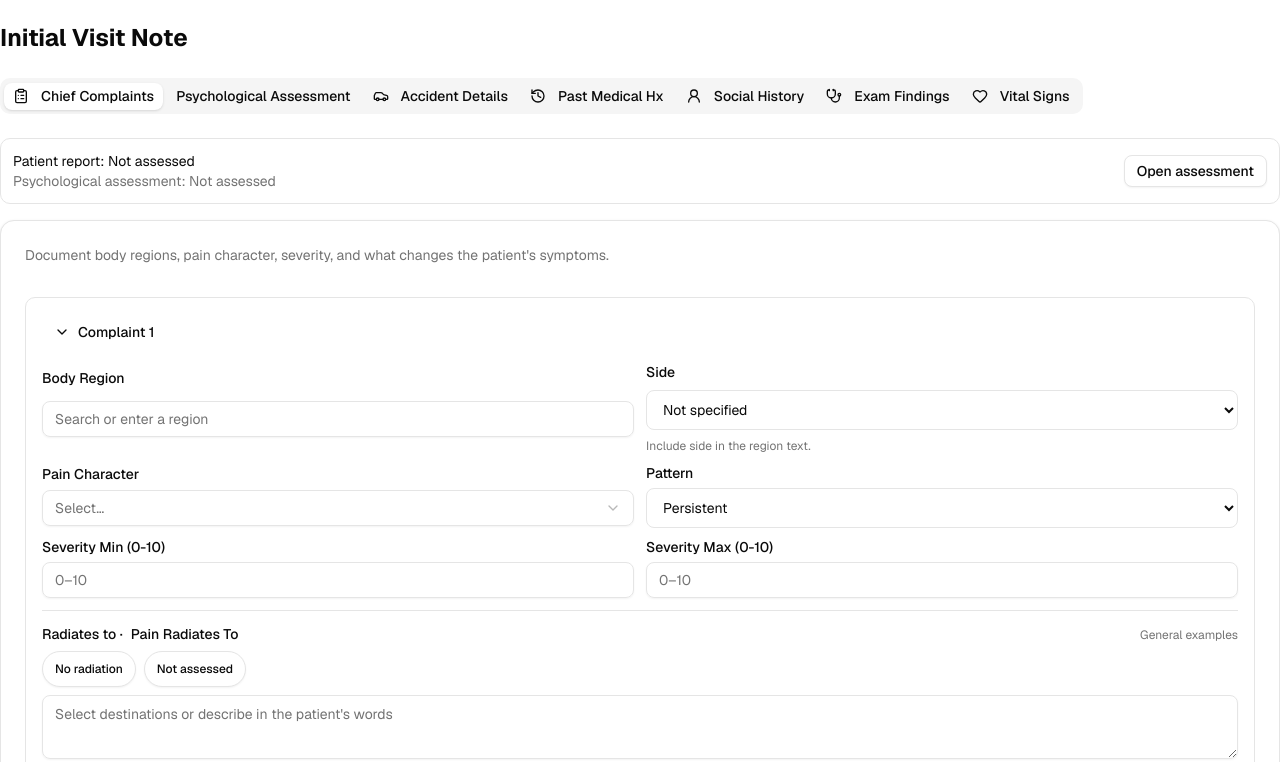
Test: psychological intake in the visit editor › stops generation and returns to the assessment when a required field is missing
Click the button "Open assessment": (1195, 171) top-left (1124, 155), bottom-right (1267, 187)
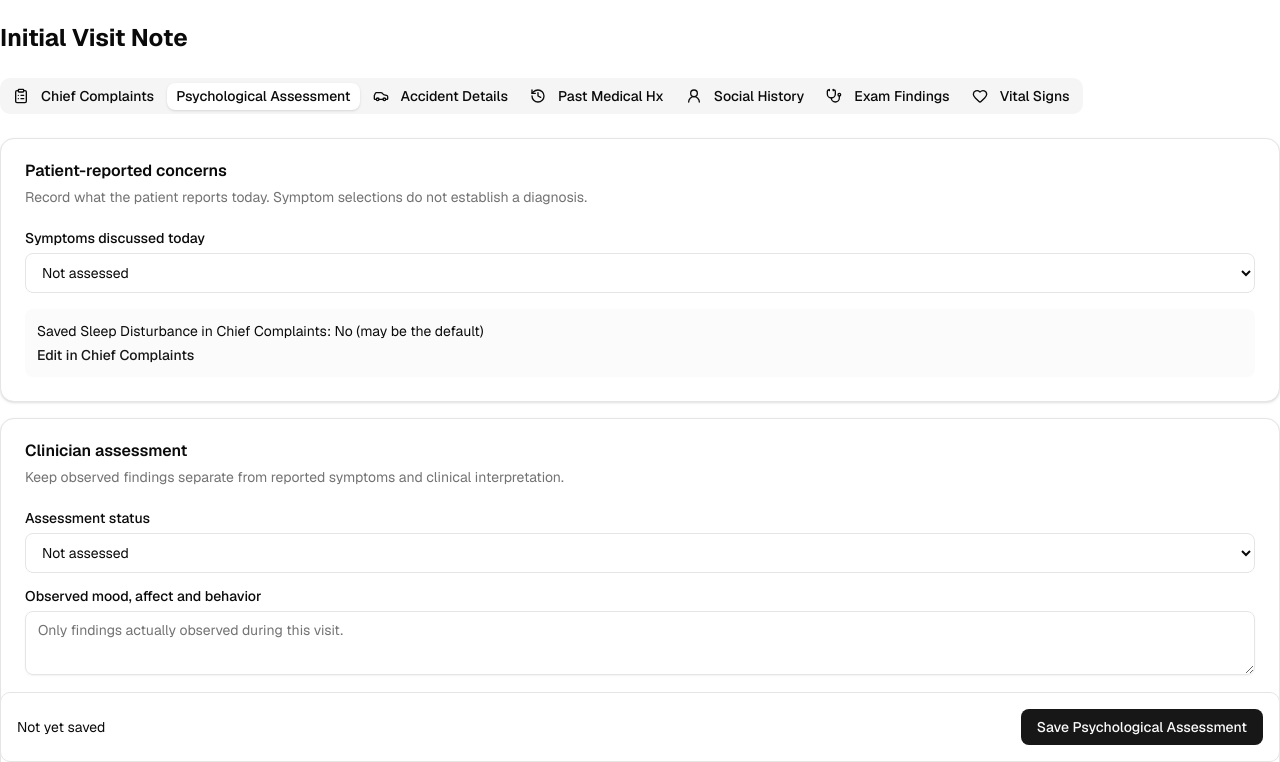
Select "Symptoms reported" in the dropdown labelled "Symptoms discussed today": (640, 273) top-left (25, 253), bottom-right (1255, 293)
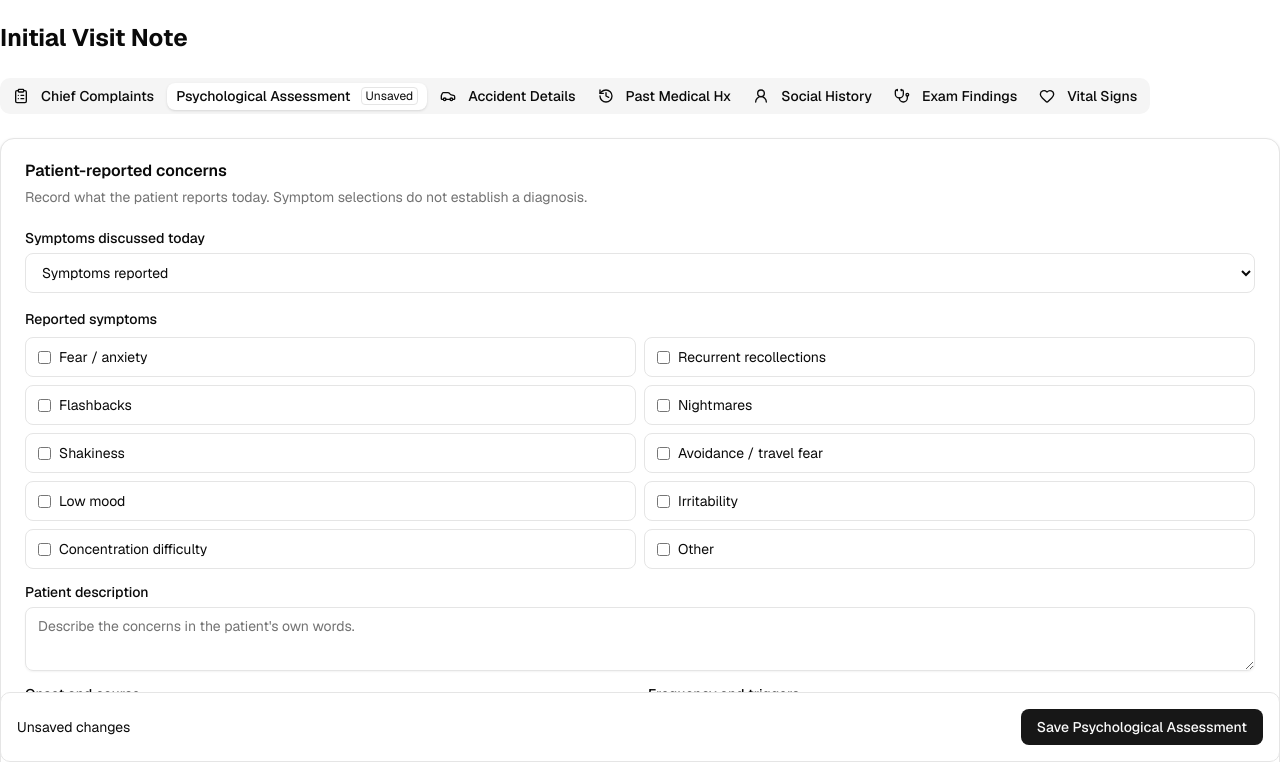
Click the tab "Chief Complaints": (84, 96) top-left (4, 82), bottom-right (163, 110)
(page scrolled)
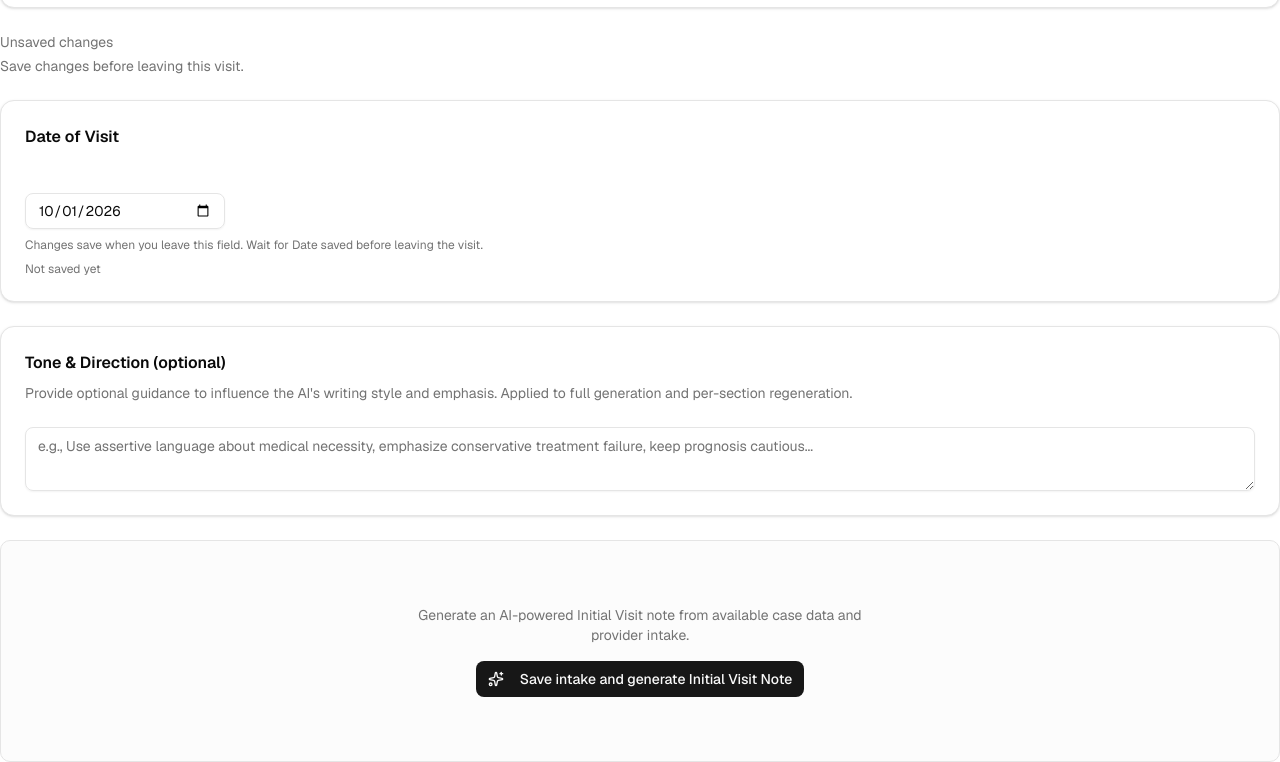
Click the button "Save intake and generate Initial Visit Note": (640, 679) top-left (476, 661), bottom-right (804, 697)
(page scrolled)
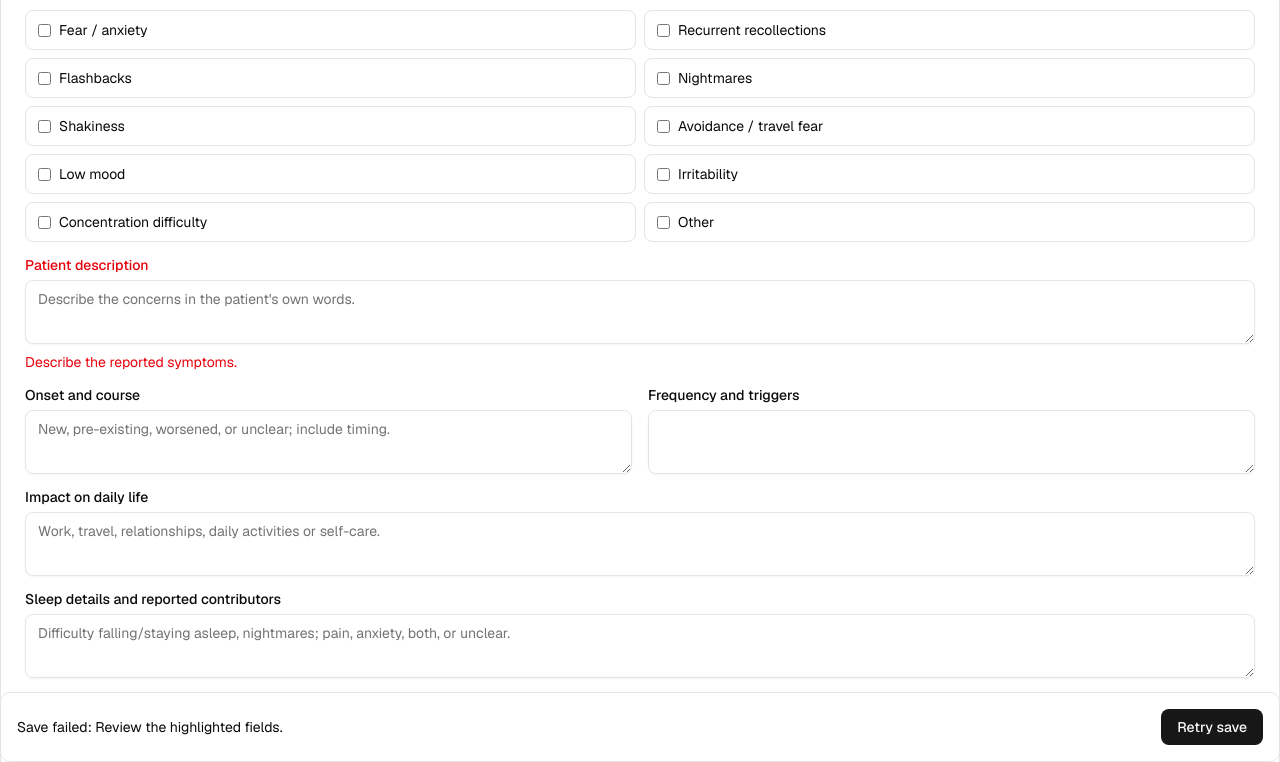
Expected: the text "Describe the reported symptoms." is shown, top-left (25, 353), bottom-right (237, 371)
